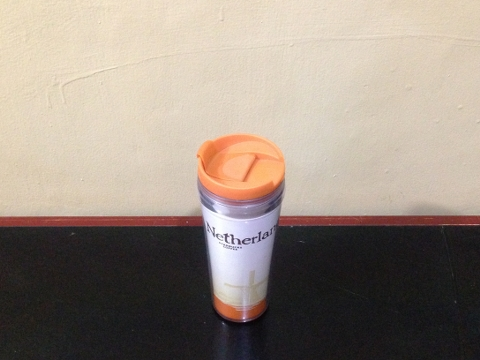tempat minum: (197, 133, 285, 323)
